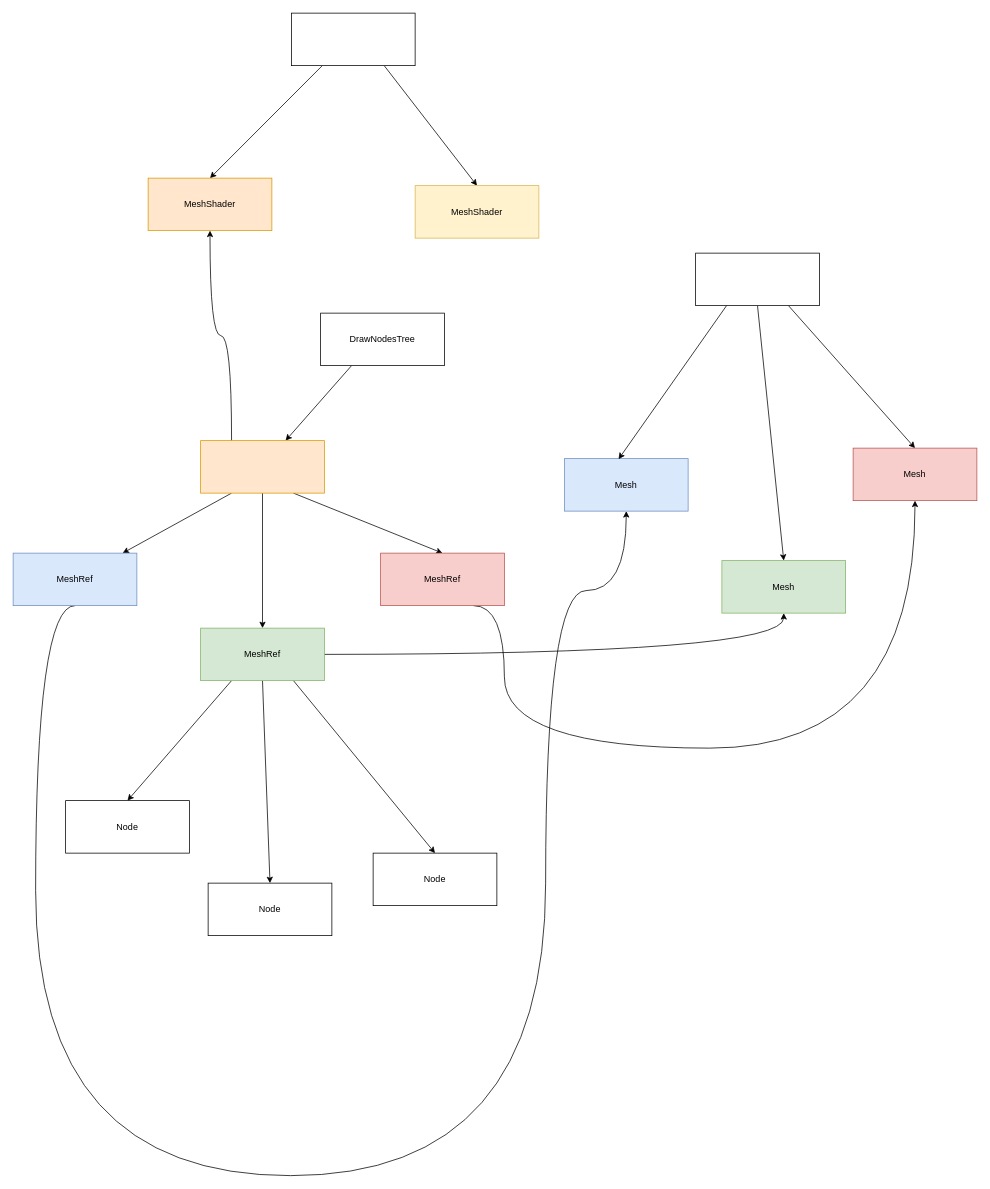
Image size: 990x1189. Some labels were removed from this diagram. Each missing label, with the box of its shape:
Meshes: (695, 252, 819, 306)
MeshShaderRef: (200, 440, 324, 493)
MeshShaders: (291, 12, 415, 66)
